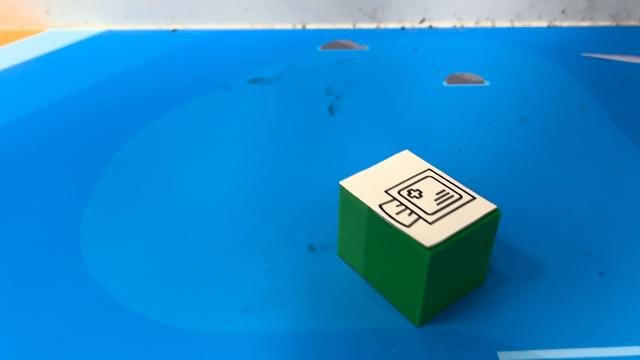napkin: (335, 146, 503, 328)
